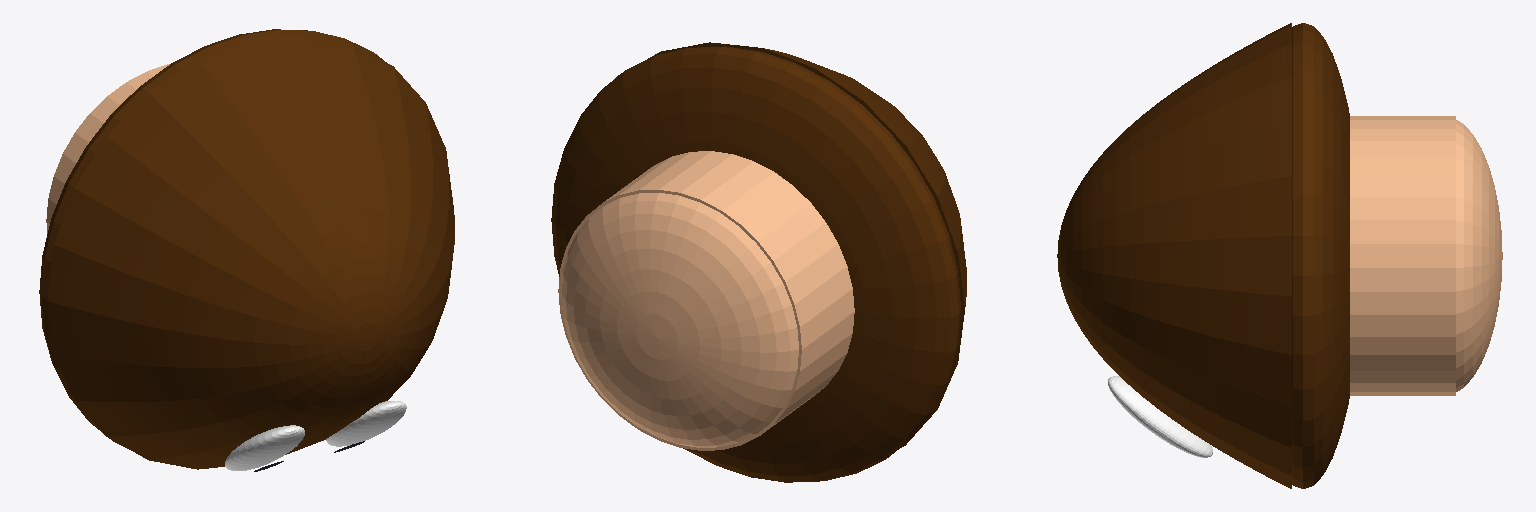
File: tinker.obj
3 views of the same model, side by side, from view 1: azimuth 30°, elevation 25°; view 2: azimuth 150°, elevation 25°; view 3: azimuth 270°, elevation 25° (orthographic).
Parts seen in each view (by area): view 1: obj_0; view 2: obj_0; view 3: obj_0.
Boxes of the visible parts, x1,y1,x2,y2 form: obj_0: [39, 29, 454, 471]; obj_0: [551, 42, 966, 482]; obj_0: [1057, 23, 1502, 488].
Size of the model in its own units: 20 by 20 by 19.